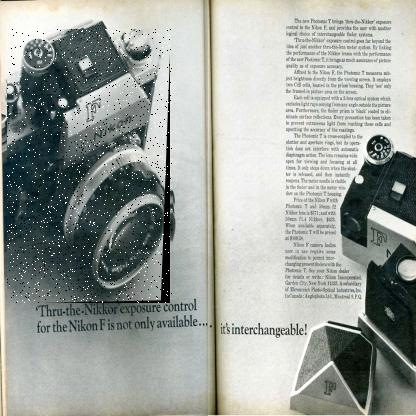Camera: (9, 30, 175, 305)
